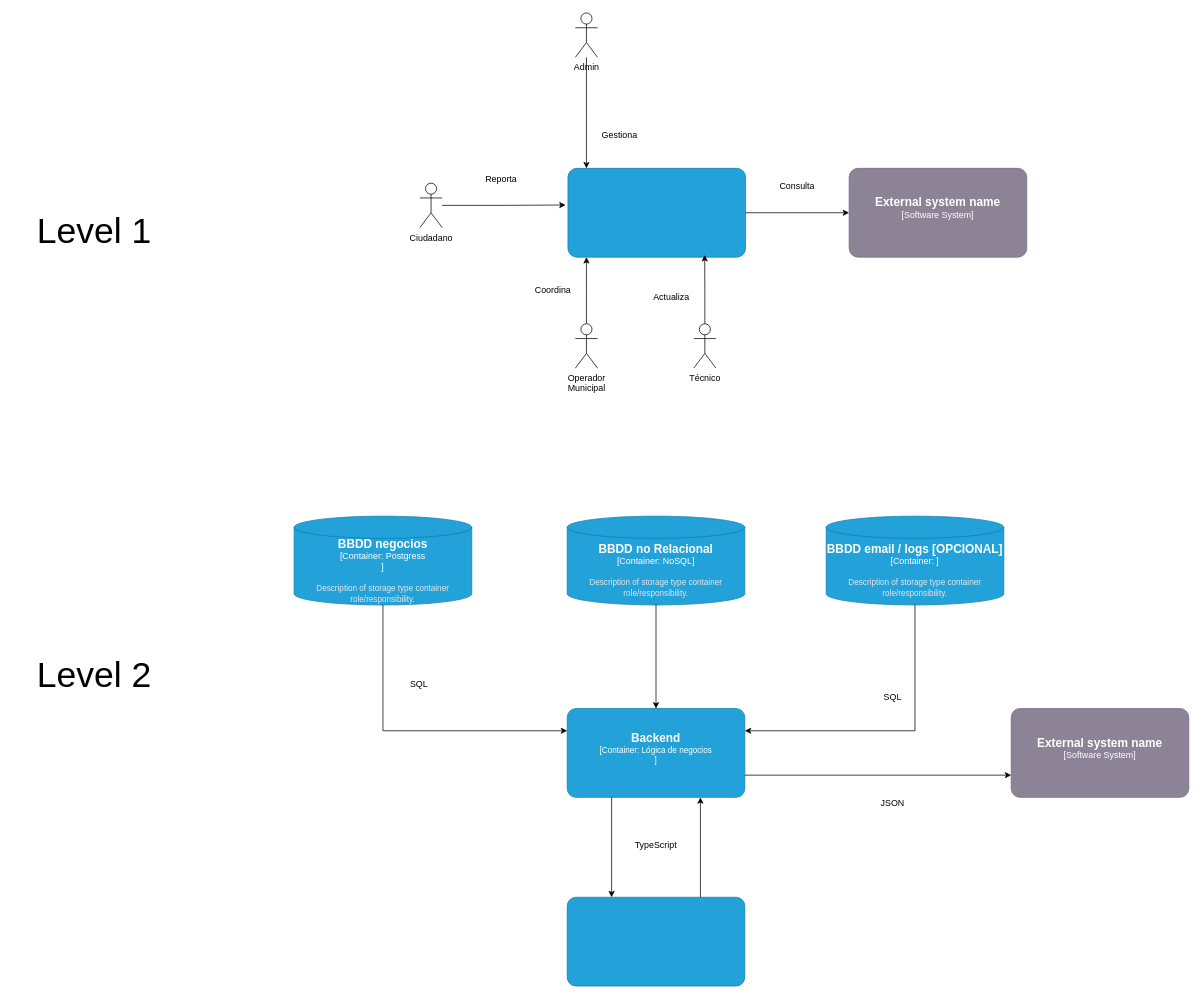
The diagram is 1202 pixels wide and 999 high, and some of its shapes have lost their labels. Here are the shapes that lost their labels. From the top down, the centre of each, then its label:
At point (656, 212): "Sistema [Container: backend + frontend + bbdd + AWS]".
At point (655, 941): "Frontend [Container: Vista]".
